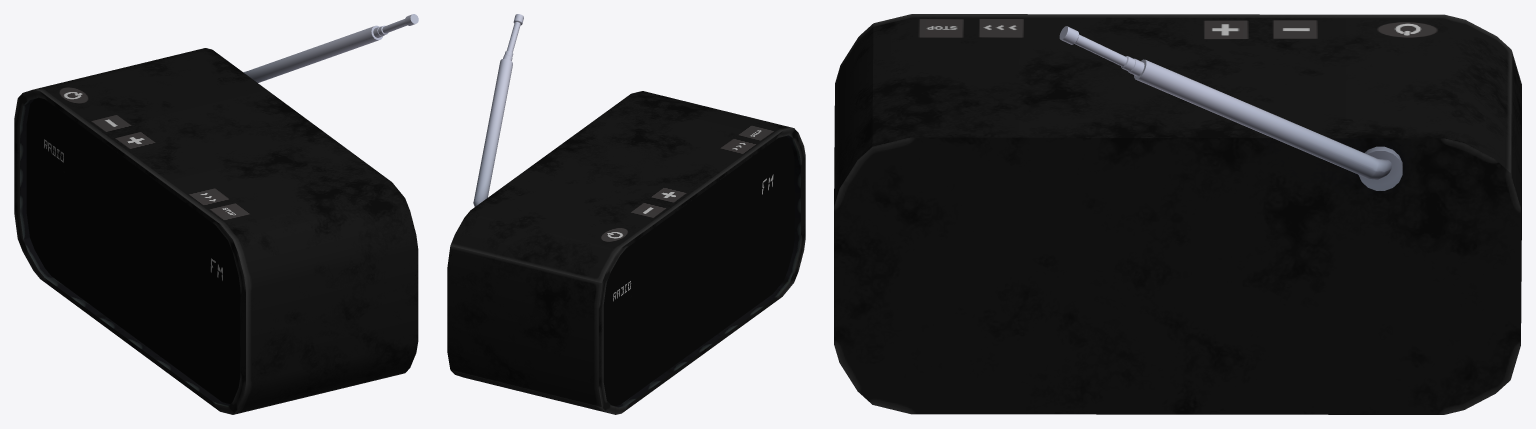
File: radioreveil.fbx
3 renders of one model, left to right at view 1: azimuth 30°, elevation 25°; view 2: azimuth 150°, elevation 25°; view 3: azimuth 270°, elevation 25°, orthographic. The views are drawn at different scales.
Parts seen in each view (by area): view 1: Cube.052; view 2: Cube.052; view 3: Cube.052.
Part boxes in pixels (x1,y1,x2,y2): Cube.052: [14, 14, 418, 414]; Cube.052: [447, 14, 805, 414]; Cube.052: [834, 14, 1521, 414].
Bounding box in the file's own units: 0.1953 × 0.2226 × 0.3151.
